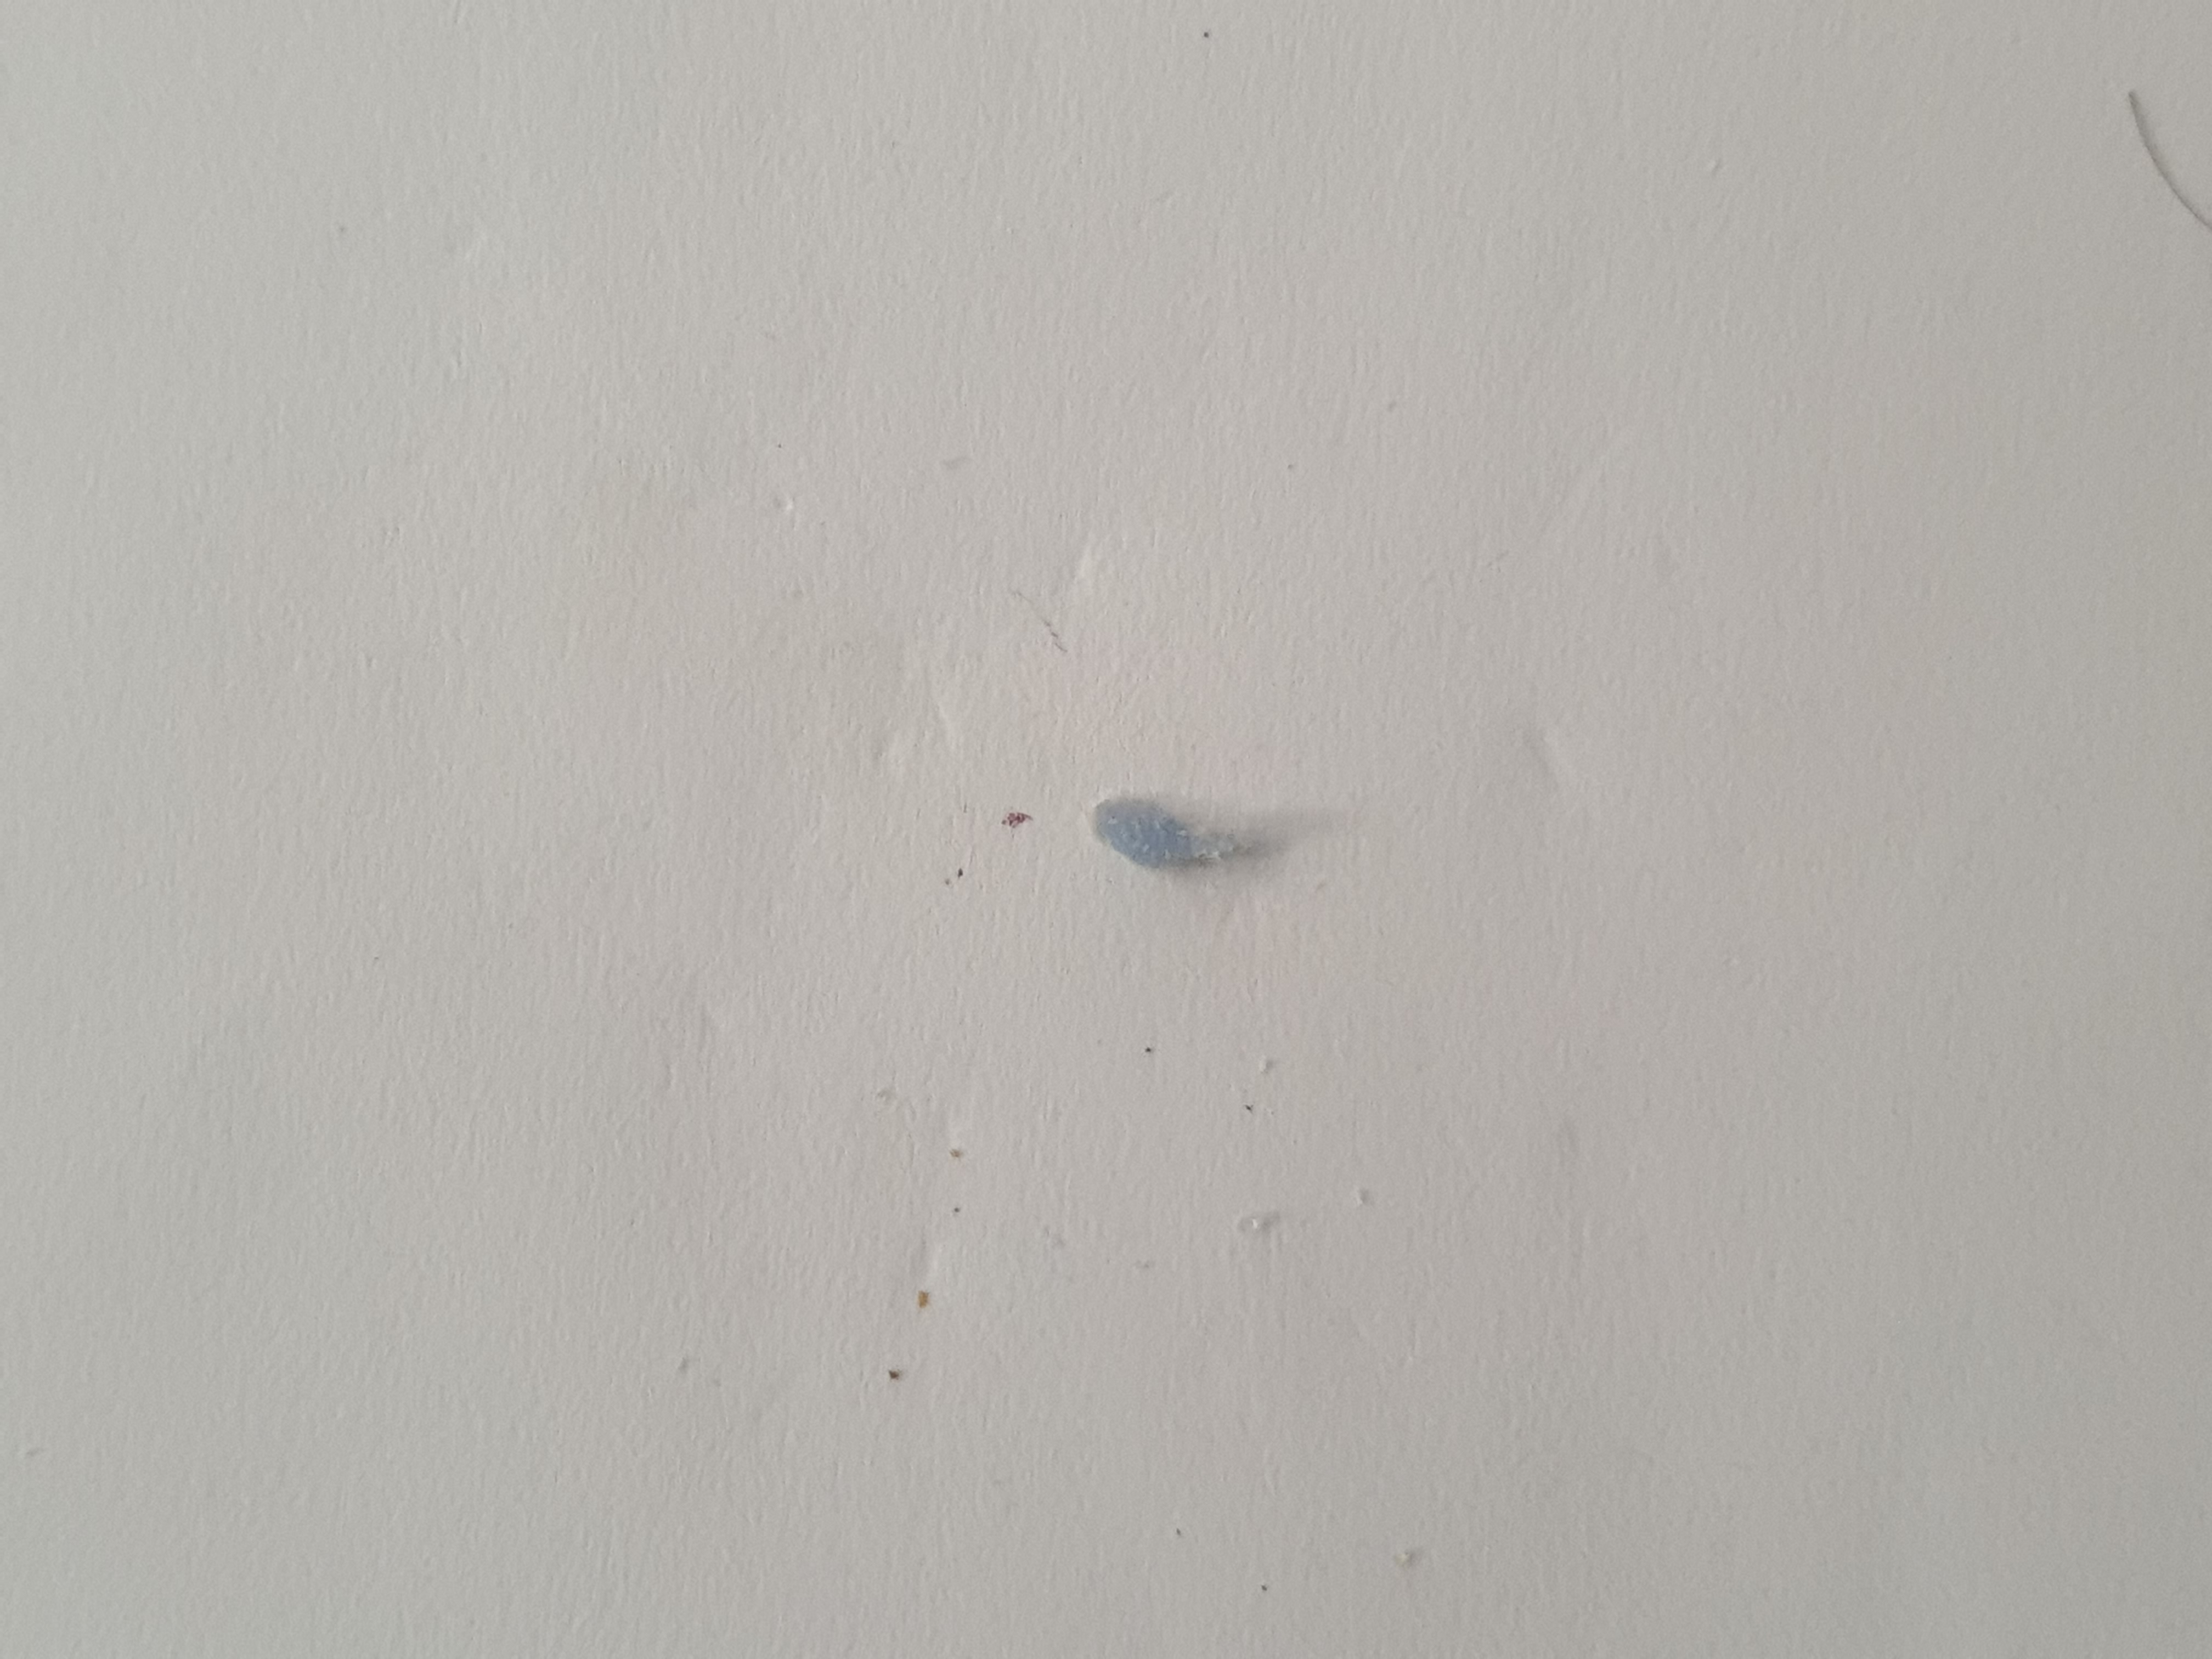plastic: (1075, 770, 1240, 884)
